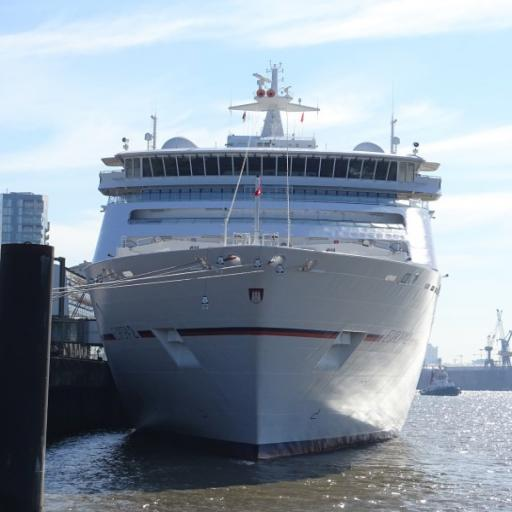cruises: (76, 62, 455, 476)
